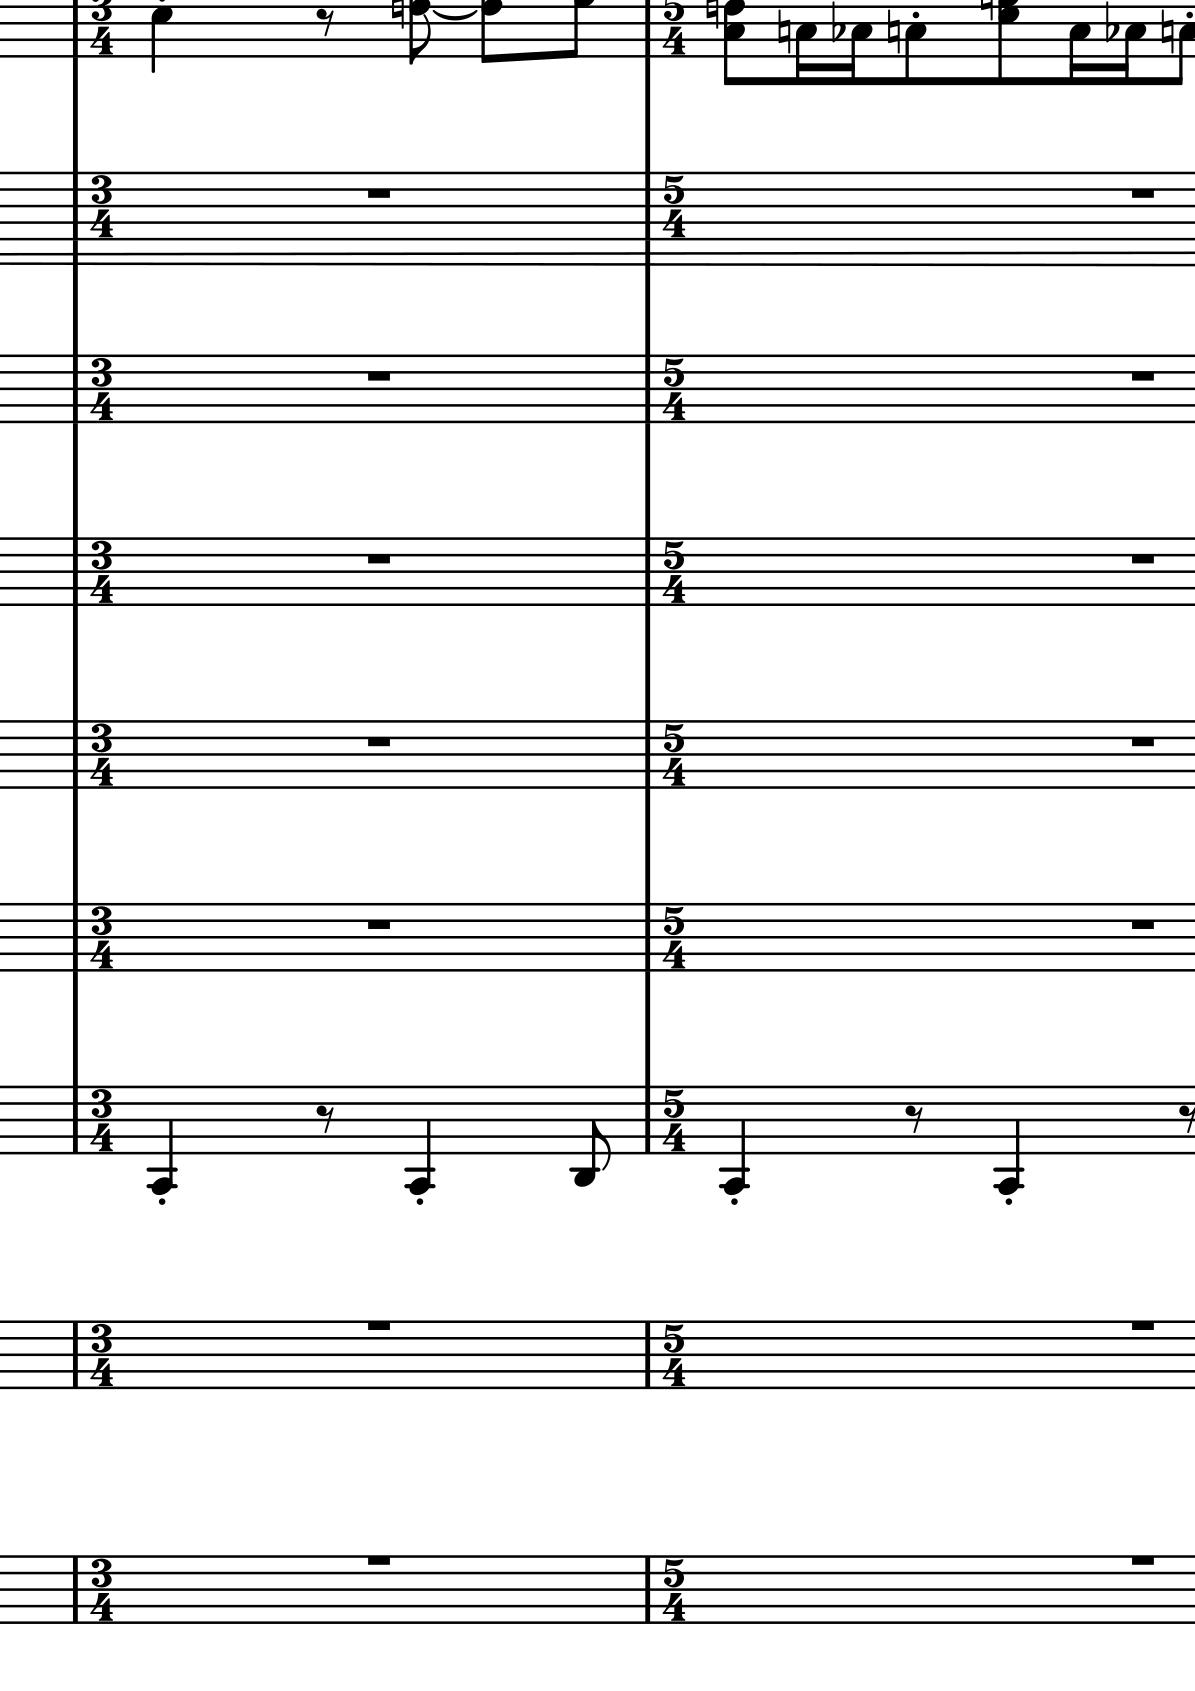3: (87, 537, 116, 570), (88, 353, 115, 389), (88, 902, 115, 939), (87, 1555, 115, 1589), (88, 1320, 115, 1354), (88, 1085, 114, 1120), (88, 172, 114, 206), (88, 720, 114, 754), (91, 1, 115, 23)
4: (65, 1324, 85, 1388), (660, 1588, 691, 1622), (88, 206, 116, 243), (660, 752, 688, 787), (88, 1588, 116, 1622), (662, 22, 691, 56), (88, 1118, 116, 1152), (88, 1354, 116, 1387), (661, 388, 688, 421), (661, 937, 688, 971), (661, 1118, 688, 1152), (89, 754, 115, 789), (89, 937, 115, 971), (661, 1354, 687, 1387), (89, 23, 115, 56), (89, 389, 115, 421), (662, 570, 687, 604), (91, 571, 115, 604), (662, 206, 685, 239)
4_-2: (716, 1082, 751, 1195), (404, 1082, 437, 1195), (992, 1081, 1026, 1193), (145, 1083, 178, 1195)
5: (660, 537, 689, 570), (660, 1085, 688, 1118), (660, 1555, 688, 1589), (661, 719, 687, 754), (661, 171, 685, 206), (661, 354, 685, 389), (661, 902, 685, 937), (662, 1320, 685, 1354)
8_-3: (570, 1083, 610, 1188)
Flat: (828, 1, 846, 45)
Natural: (885, 6, 901, 58), (1159, 6, 1176, 57)
Rests1: (1126, 184, 1159, 204), (363, 184, 394, 204), (362, 367, 394, 387), (1126, 732, 1159, 751), (1126, 1316, 1159, 1335), (363, 732, 394, 751), (363, 1316, 394, 1335), (1126, 367, 1159, 385), (1126, 549, 1159, 568), (362, 1551, 394, 1569), (1126, 1551, 1159, 1569), (363, 549, 394, 568), (362, 917, 394, 933), (1126, 917, 1159, 933)
Rests8: (313, 1103, 338, 1136), (901, 1103, 926, 1136), (313, 6, 336, 39), (1176, 1101, 1195, 1136)
Single_barline: (634, 169, 660, 239), (63, 901, 85, 972), (63, 537, 85, 606), (63, 354, 85, 423), (63, 720, 85, 789), (638, 354, 658, 424), (638, 537, 658, 606), (638, 720, 658, 790), (638, 902, 658, 972), (65, 1085, 85, 1154), (639, 1553, 658, 1624), (639, 1320, 660, 1386), (638, 1085, 657, 1154), (67, 1553, 87, 1621), (69, 169, 85, 240)
Slur: (436, 3, 479, 21)
TimeSig: (87, 902, 118, 972), (87, 354, 118, 423), (87, 171, 116, 240), (87, 537, 116, 606), (87, 719, 116, 789), (660, 902, 689, 972), (660, 1555, 689, 1625), (660, 354, 689, 423), (87, 1555, 116, 1624), (661, 538, 689, 608), (88, 1320, 116, 1390), (661, 720, 689, 789), (88, 1086, 116, 1154), (661, 1086, 689, 1154), (661, 171, 688, 240), (661, 1321, 688, 1390), (88, 1, 116, 58)
